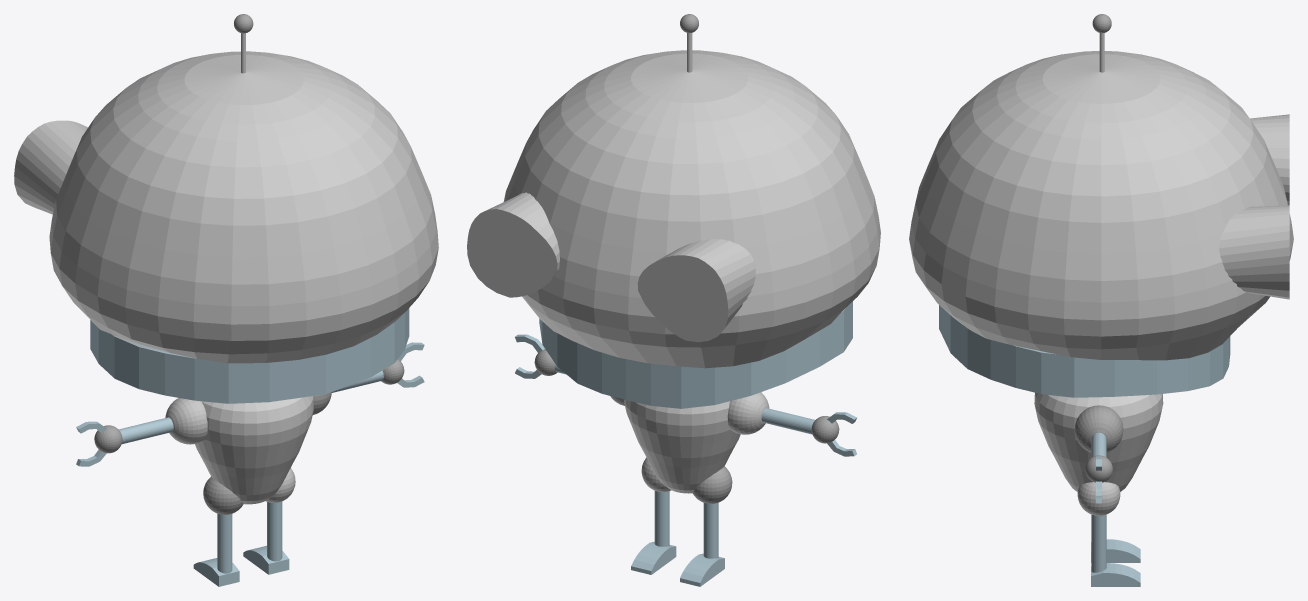
The model's file is MainCharacter.fbx.
3 views of the same model, side by side, from view 1: azimuth 30°, elevation 25°; view 2: azimuth 150°, elevation 25°; view 3: azimuth 270°, elevation 25° (orthographic).
Parts seen in each view (by area): view 1: Antenna; view 2: Antenna; view 3: Antenna.
Part boxes in pixels (x1,y1,x2,y2): Antenna: (14, 14, 438, 586); Antenna: (467, 14, 880, 586); Antenna: (909, 14, 1293, 586).
Size of the model in its own units: 140 by 217 by 137.
